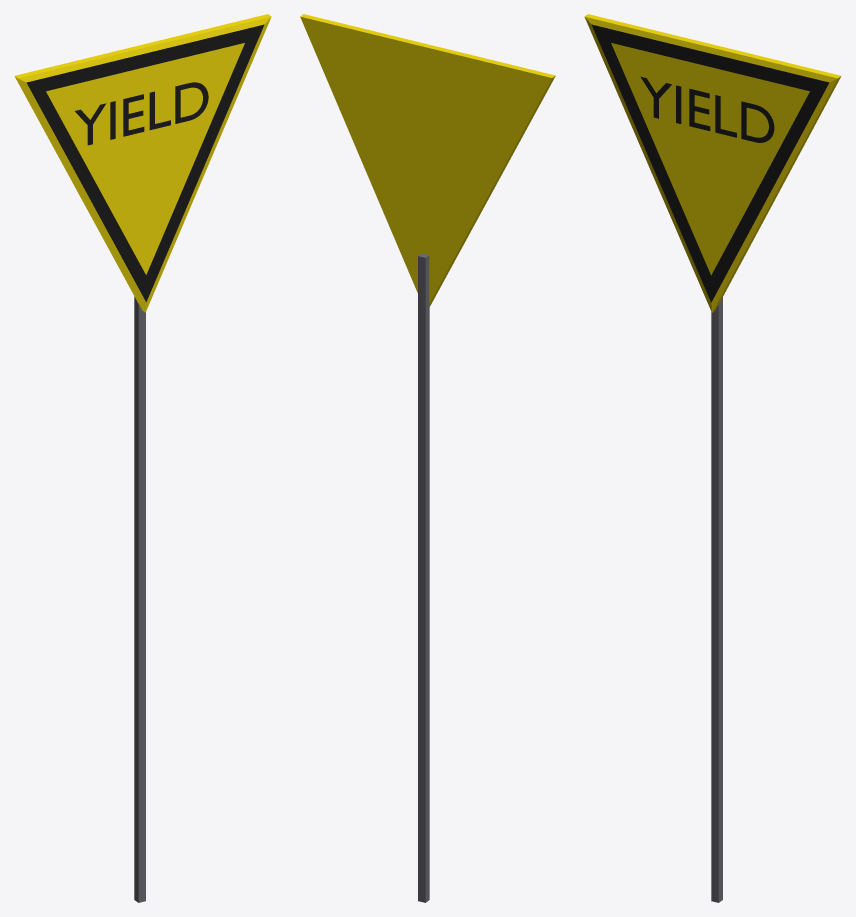
File: yield_sign.fbx
3 renders of one model, left to right at view 1: azimuth 30°, elevation 25°; view 2: azimuth 150°, elevation 25°; view 3: azimuth 330°, elevation 25°, orthographic.
Parts seen in each view (by area): view 1: Yield Sign; view 2: Yield Sign; view 3: Yield Sign.
Part boxes in pixels (x1,y1,x2,y2): Yield Sign: [14, 14, 271, 902]; Yield Sign: [300, 14, 555, 902]; Yield Sign: [584, 14, 841, 902].
Bounding box in the file's own units: 95.74 × 309 × 5.24.
